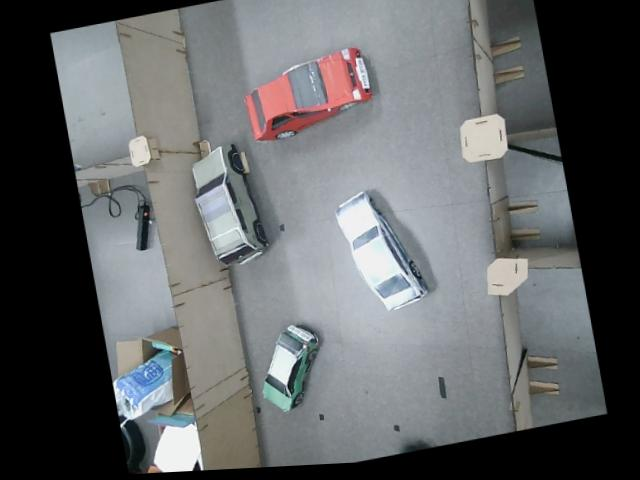car: (238, 45, 379, 144), (333, 181, 431, 319), (185, 137, 272, 273), (252, 321, 330, 416)
